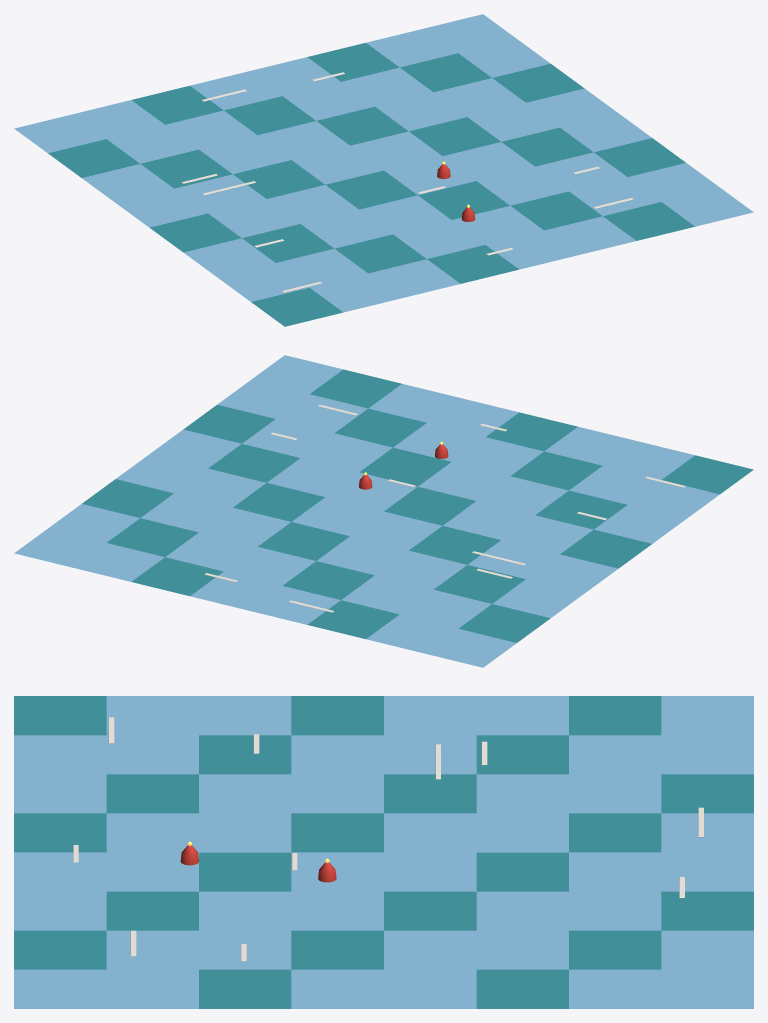
File: land_sea.glb
3 renders of one model, top to bottom at view 1: azimuth 30°, elevation 25°; view 2: azimuth 150°, elevation 25°; view 3: azimuth 270°, elevation 25°, orthographic. The views are drawn at different scales.
Visible parts, largest first — view 1: land_sea; view 2: land_sea; view 3: land_sea.
Part boxes in pixels (x1,y1,x2,y2): land_sea: (14, 14, 753, 326); land_sea: (14, 355, 753, 667); land_sea: (14, 696, 753, 1008).
Bounding box in the file's own units: 40 × 1.17 × 40.
1 material, 1 textured.
